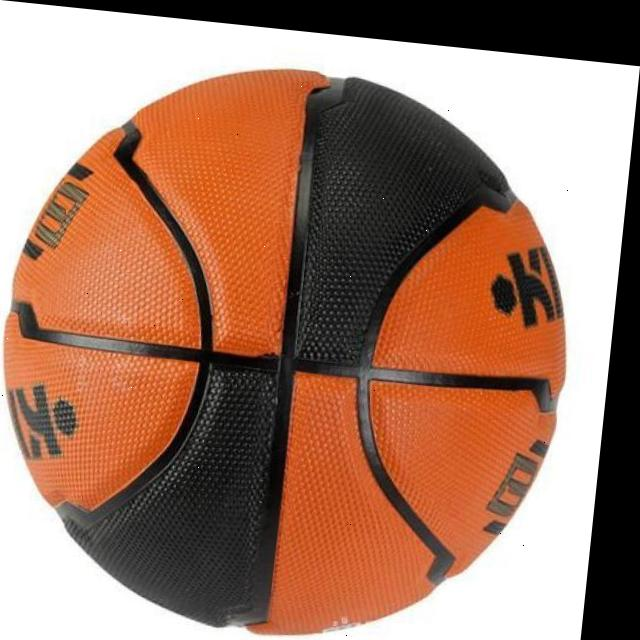Basketball: (0, 42, 593, 640)
